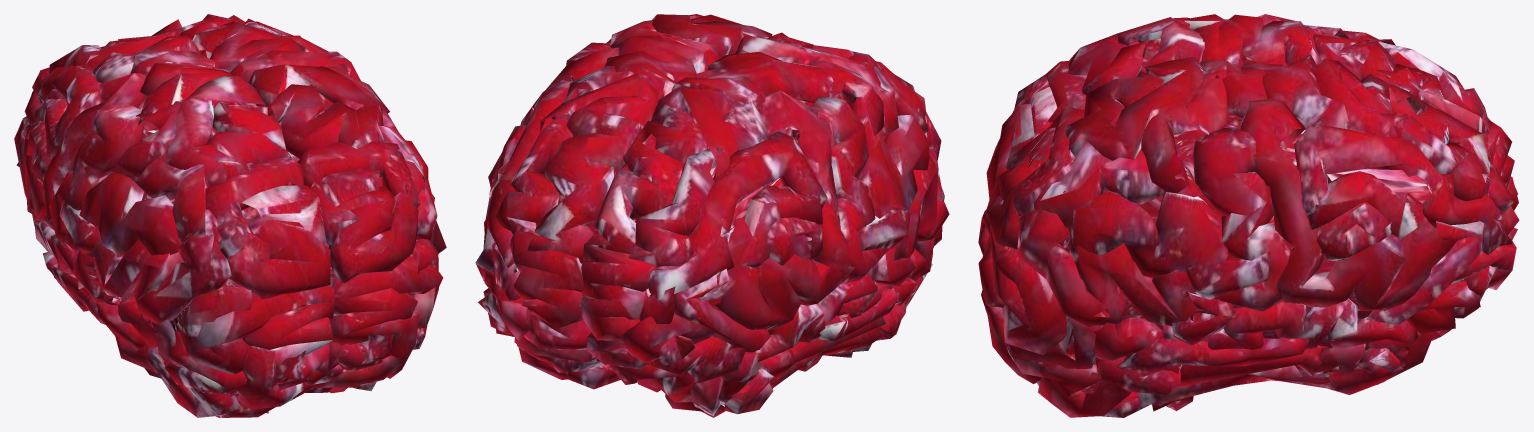
File: brain.gltf
3 renders of one model, left to right at view 1: azimuth 30°, elevation 25°; view 2: azimuth 150°, elevation 25°; view 3: azimuth 270°, elevation 25°, orthographic. The views are drawn at different scales.
Parts seen in each view (by area): view 1: BezierCurve, Cube; view 2: BezierCurve, Cube; view 3: BezierCurve, Cube.
Boxes of the visible parts, x1,y1,x2,y2 form: BezierCurve: [14, 14, 446, 417]; Cube: [21, 50, 417, 393]; BezierCurve: [475, 14, 949, 417]; Cube: [498, 58, 886, 388]; BezierCurve: [978, 14, 1519, 417]; Cube: [1059, 112, 1461, 393].
Size of the model in its own units: 0.6906 by 0.5937 by 0.8768.
1 material, 1 textured.
